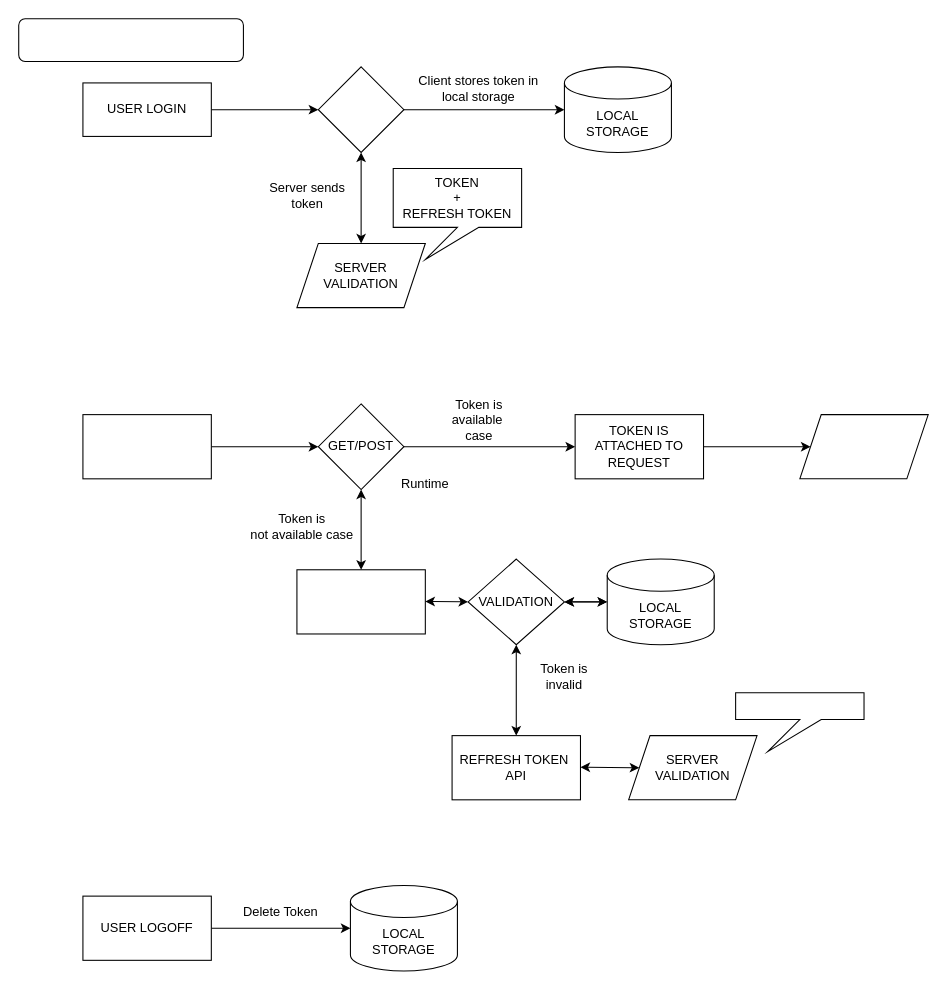
This 947x990 diagram has some shape labels left out. The shapes that lost their labels are listed below. From the top down, each one's centre as x and y in pixels, then its label:
point (130, 40): MOBILE APP - JWT LOGIC
point (360, 109): POST
point (146, 446): USER CLICKS ON A PAGE
point (863, 446): SERVER
point (360, 601): TOKEN RETRIEVAL
point (799, 722): NEW TOKEN
